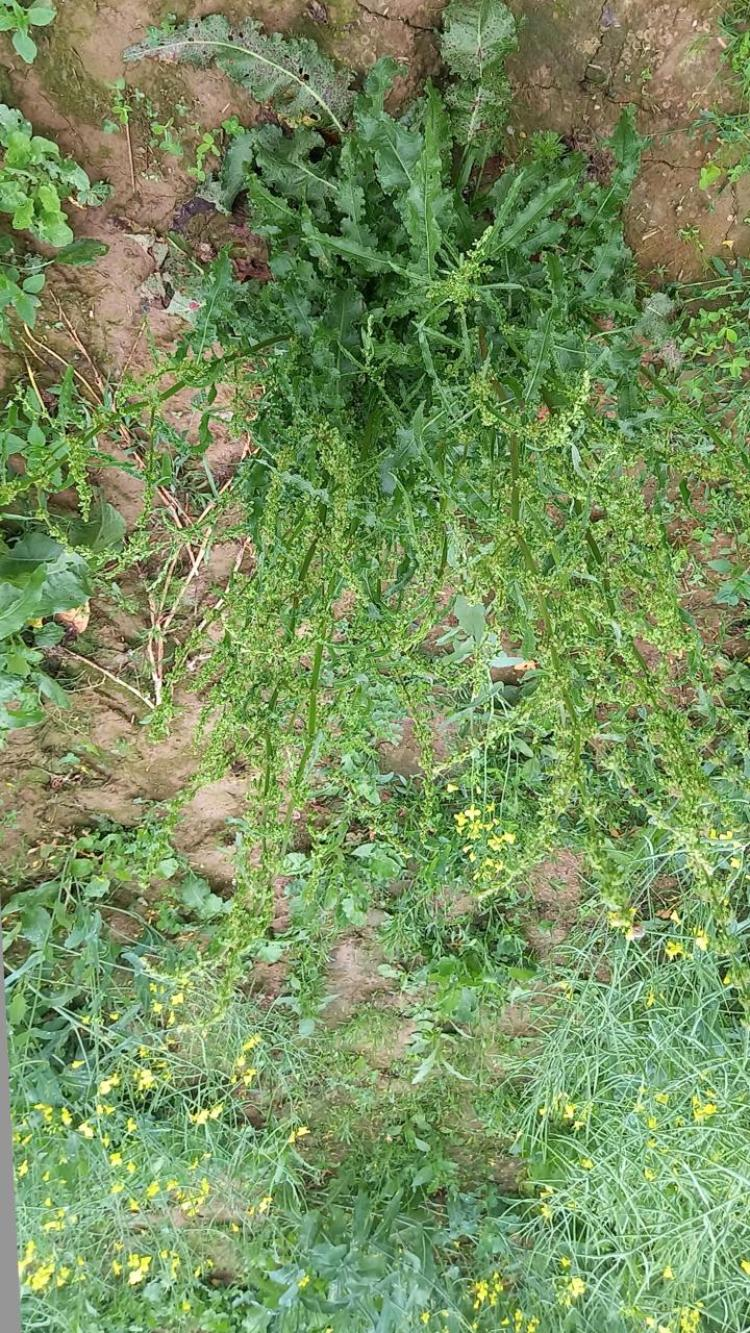zhavel: (139, 0, 712, 900)
